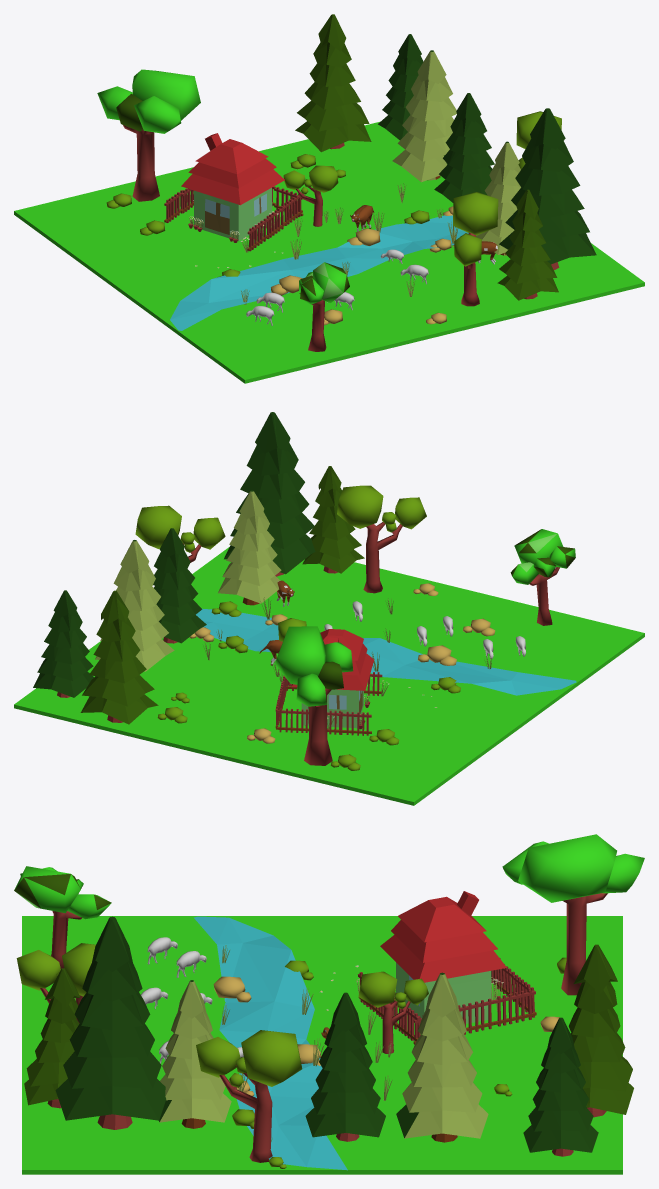
File: Paesaggio lowpoly di Susi.dae
3 renders of one model, top to bottom at view 1: azimuth 30°, elevation 25°; view 2: azimuth 150°, elevation 25°; view 3: azimuth 270°, elevation 25°, orthographic. The views are drawn at different scales.
Visible parts, largest first — view 1: Paesaggio_; view 2: Paesaggio_; view 3: Paesaggio_.
Part boxes in pixels (x1,y1,x2,y2): Paesaggio_: [14, 14, 644, 383]; Paesaggio_: [14, 412, 644, 805]; Paesaggio_: [14, 834, 644, 1174].
Size of the model in its own units: 16.18 by 16.58 by 6.33.
